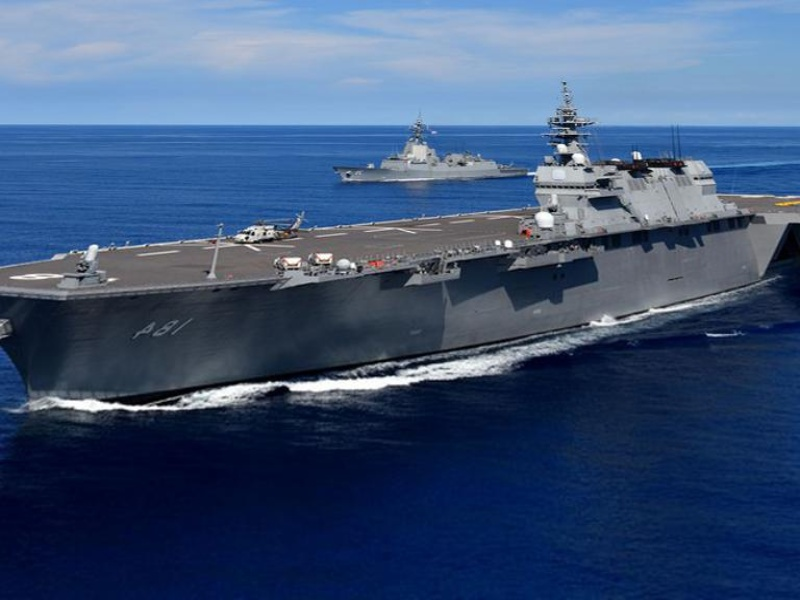carrier: (35, 139, 797, 400)
cruise: (312, 124, 529, 184)
